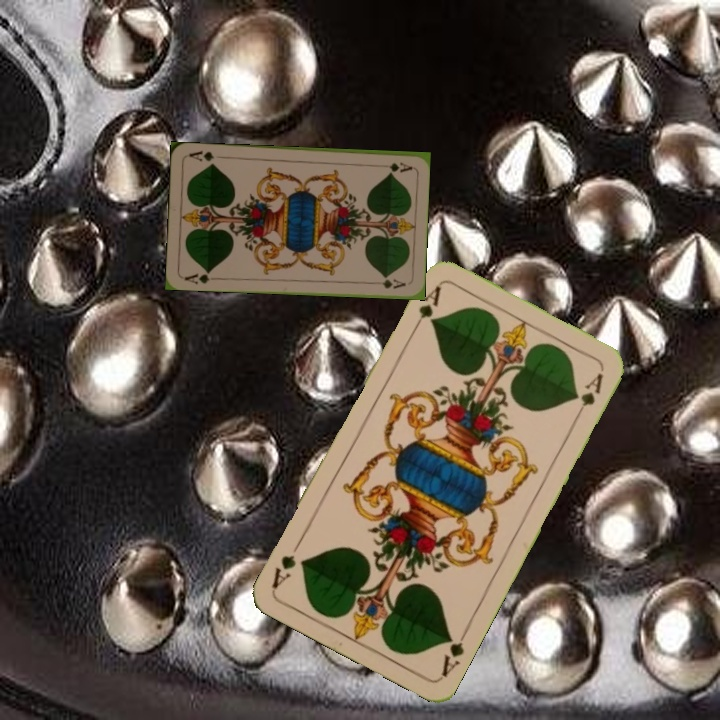GA: (408, 282, 444, 335), (437, 624, 471, 680), (180, 267, 221, 286), (373, 158, 414, 174)
